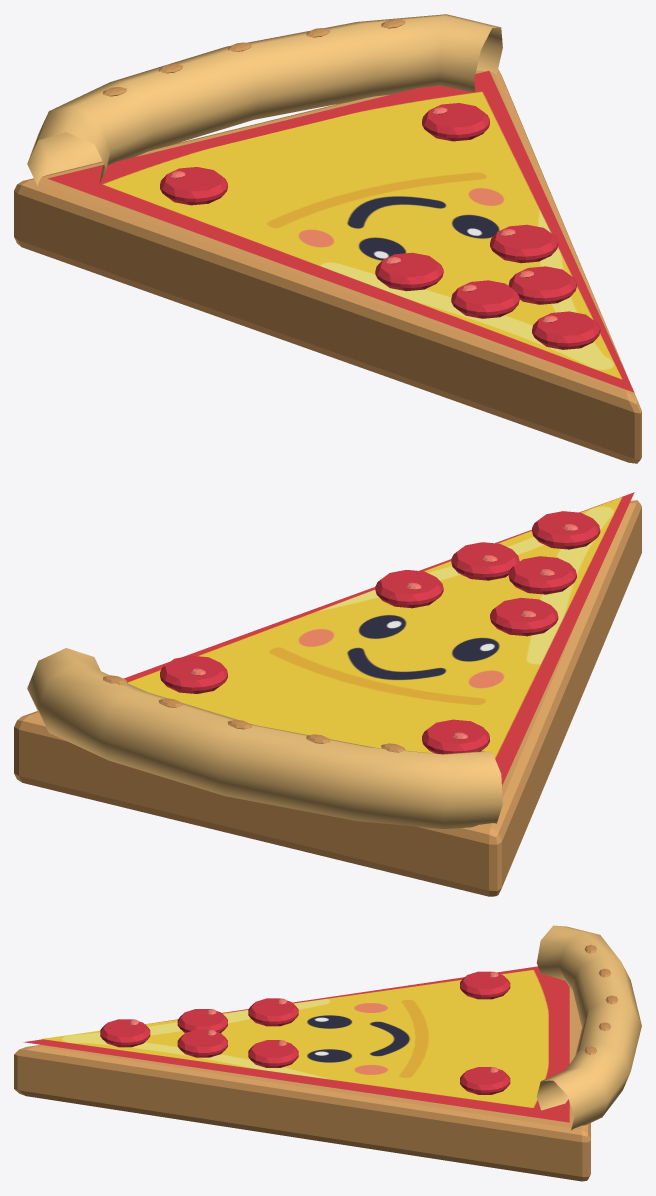
File: asset.glb
3 views of the same model, one above another, from view 1: azimuth 30°, elevation 25°; view 2: azimuth 150°, elevation 25°; view 3: azimuth 270°, elevation 25° (orthographic). The views are drawn at different scales.
Parts seen in each view (by area): view 1: Melted cheese top, Chunky baked slice, Puffy golden back crust, Sauce peeking around the cheese, Pepperoni 01, Pepperoni 02, Pepperoni 04, Pepperoni 05, Pepperoni 06, Pepperoni 07, Pepperoni 03; view 2: Melted cheese top, Puffy golden back crust, Chunky baked slice, Sauce peeking around the cheese, Pepperoni 01, Pepperoni 02, Pepperoni 05, Pepperoni 07, Pepperoni 04, Pepperoni 03, Pepperoni 06; view 3: Chunky baked slice, Melted cheese top, Puffy golden back crust, Sauce peeking around the cheese, Pepperoni 06, Pepperoni 04, Pepperoni 03, Pepperoni 01, Pepperoni 05, Pepperoni 07, Pepperoni 02.
Boxes of the visible parts, x1=… form: Melted cheese top: x1=102, y1=91, x2=622, y2=379; Chunky baked slice: x1=14, y1=69, x2=641, y2=463; Puffy golden back crust: x1=27, y1=14, x2=502, y2=185; Sauce peeking around the cheese: x1=47, y1=71, x2=634, y2=392; Pepperoni 01: x1=532, y1=311, x2=600, y2=349; Pepperoni 02: x1=451, y1=280, x2=519, y2=318; Pepperoni 04: x1=375, y1=252, x2=443, y2=291; Pepperoni 05: x1=490, y1=224, x2=558, y2=263; Pepperoni 06: x1=160, y1=167, x2=227, y2=205; Pepperoni 07: x1=422, y1=103, x2=489, y2=141; Pepperoni 03: x1=508, y1=266, x2=576, y2=304; Melted cheese top: x1=127, y1=497, x2=622, y2=758; Puffy golden back crust: x1=27, y1=648, x2=502, y2=828; Chunky baked slice: x1=14, y1=500, x2=641, y2=896; Sauce peeking around the cheese: x1=124, y1=492, x2=634, y2=785; Pepperoni 01: x1=532, y1=511, x2=600, y2=549; Pepperoni 02: x1=508, y1=556, x2=576, y2=594; Pepperoni 05: x1=375, y1=570, x2=443, y2=608; Pepperoni 07: x1=160, y1=655, x2=227, y2=693; Pepperoni 04: x1=490, y1=597, x2=558, y2=636; Pepperoni 03: x1=451, y1=542, x2=519, y2=580; Pepperoni 06: x1=422, y1=719, x2=489, y2=754; Chunky baked slice: x1=14, y1=988, x2=590, y2=1181; Melted cheese top: x1=42, y1=970, x2=548, y2=1107; Puffy golden back crust: x1=536, y1=925, x2=641, y2=1130; Sauce peeking around the cheese: x1=23, y1=966, x2=569, y2=1122; Pepperoni 06: x1=460, y1=971, x2=510, y2=999; Pepperoni 04: x1=248, y1=998, x2=298, y2=1026; Pepperoni 03: x1=177, y1=1029, x2=227, y2=1057; Pepperoni 01: x1=100, y1=1019, x2=150, y2=1047; Pepperoni 05: x1=248, y1=1040, x2=298, y2=1067; Pepperoni 07: x1=460, y1=1067, x2=510, y2=1094; Pepperoni 02: x1=177, y1=1009, x2=227, y2=1032.
Size of the model in its own units: 0.1182 by 0.031 by 0.1781.
Materials: 7 (1 with a texture image).
